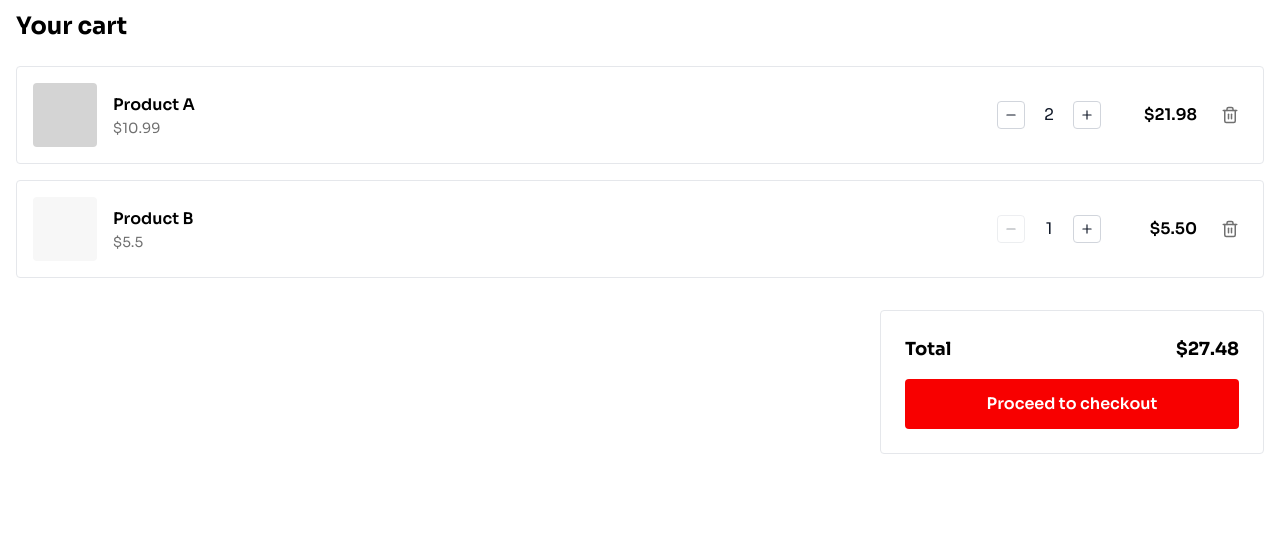
Test: Cart page › en cas d'erreur 422 (stock insuffisant), affiche le message d'erreur exact et referme le panneau
Click the button "Proceed to checkout".
click(1072, 404)  # box x1=905 y1=379 x2=1239 y2=429
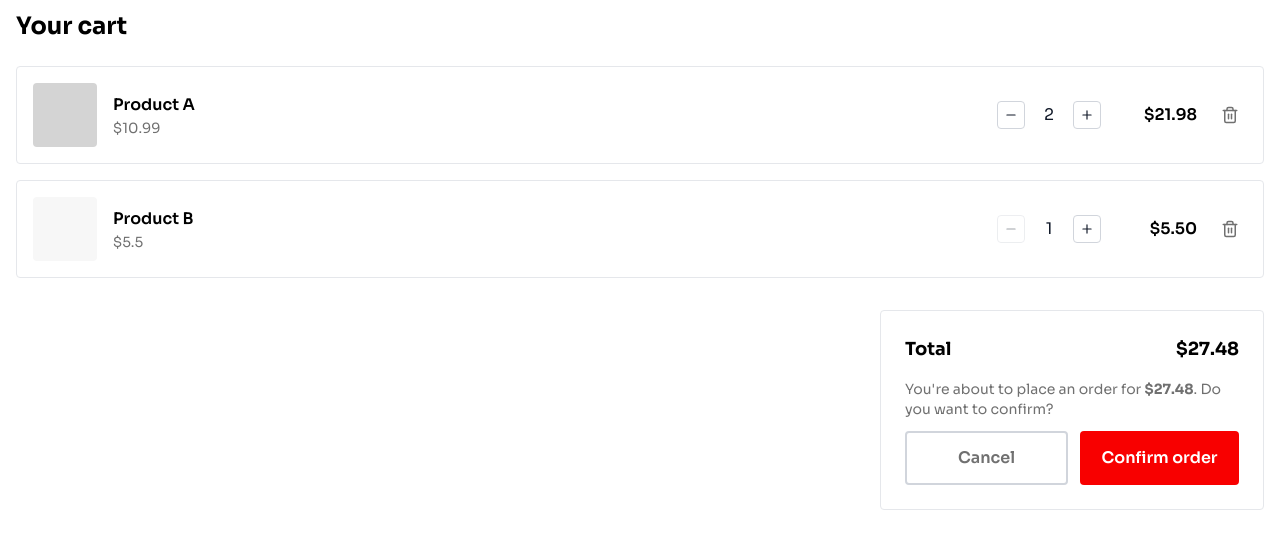
Click the button "Confirm order".
click(1160, 458)  # box x1=1080 y1=431 x2=1239 y2=485
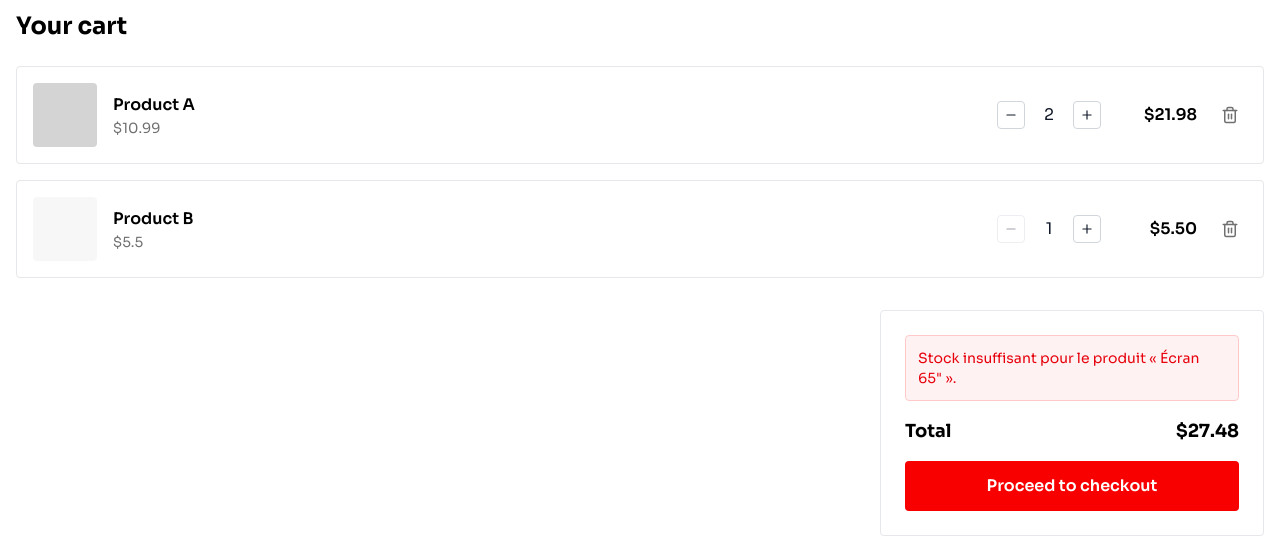
Expected: the text "Stock insuffisant pour le produit « Écran 65\" »." is shown, x1=905 y1=335 x2=1239 y2=401
Expected: the text "You're about to place an order" is gone
Expected: the button "Proceed to checkout" is shown, x1=905 y1=461 x2=1239 y2=511
